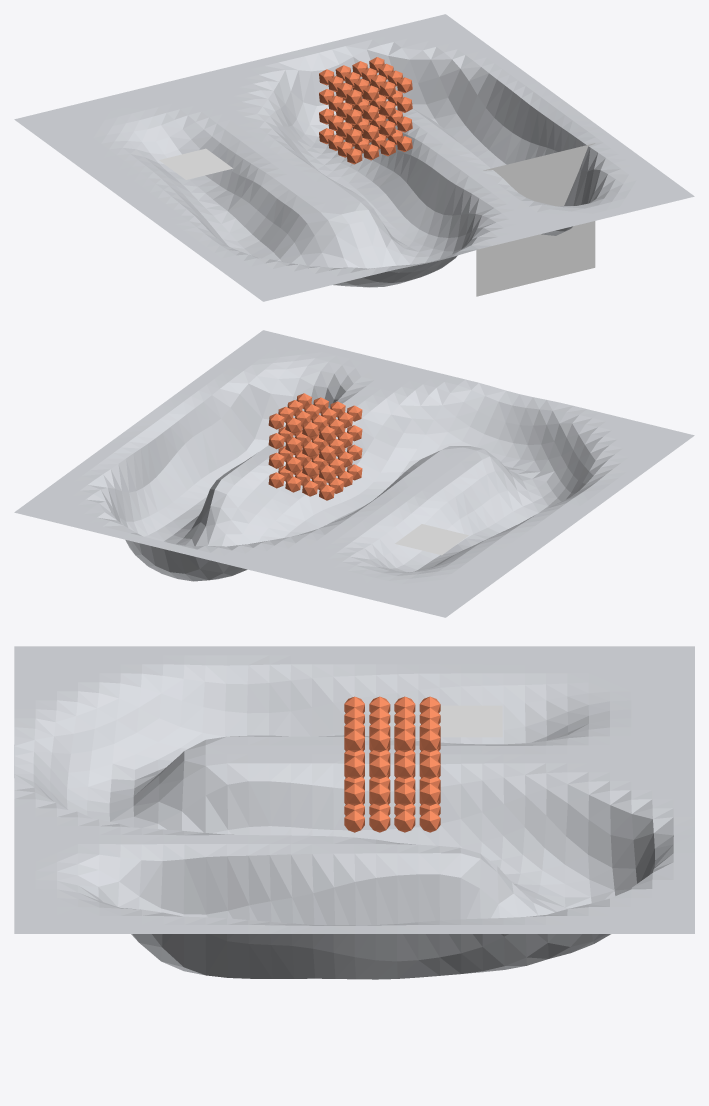
The model's file is FluidRigid.glb.
3 views of the same model, one above another, from view 1: azimuth 30°, elevation 25°; view 2: azimuth 150°, elevation 25°; view 3: azimuth 270°, elevation 25° (orthographic). The views are drawn at different scales.
Parts seen in each view (by area): view 1: Plane.001, Outflow.001, Inflow.001; view 2: Plane.001, Inflow.001; view 3: Plane.001, Inflow.001.
Boxes of the visible parts, left/top/right/bottom form: Plane.001: left=14, top=14, right=694, bottom=301; Outflow.001: left=476, top=143, right=595, bottom=296; Inflow.001: left=159, top=148, right=232, bottom=179; Plane.001: left=14, top=330, right=694, bottom=617; Inflow.001: left=395, top=524, right=468, bottom=555; Plane.001: left=14, top=646, right=694, bottom=979; Inflow.001: left=439, top=705, right=502, bottom=737.
Size of the model in its own units: 18.25 by 7.82 by 18.26.
